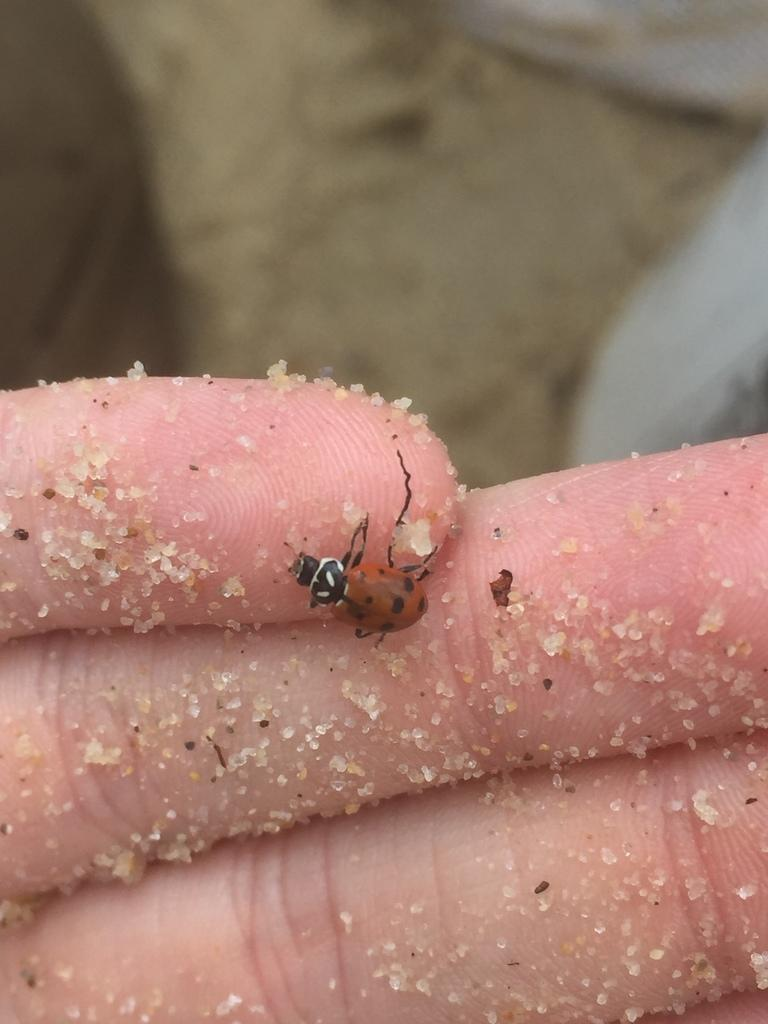ladybug: (270, 511, 444, 655)
